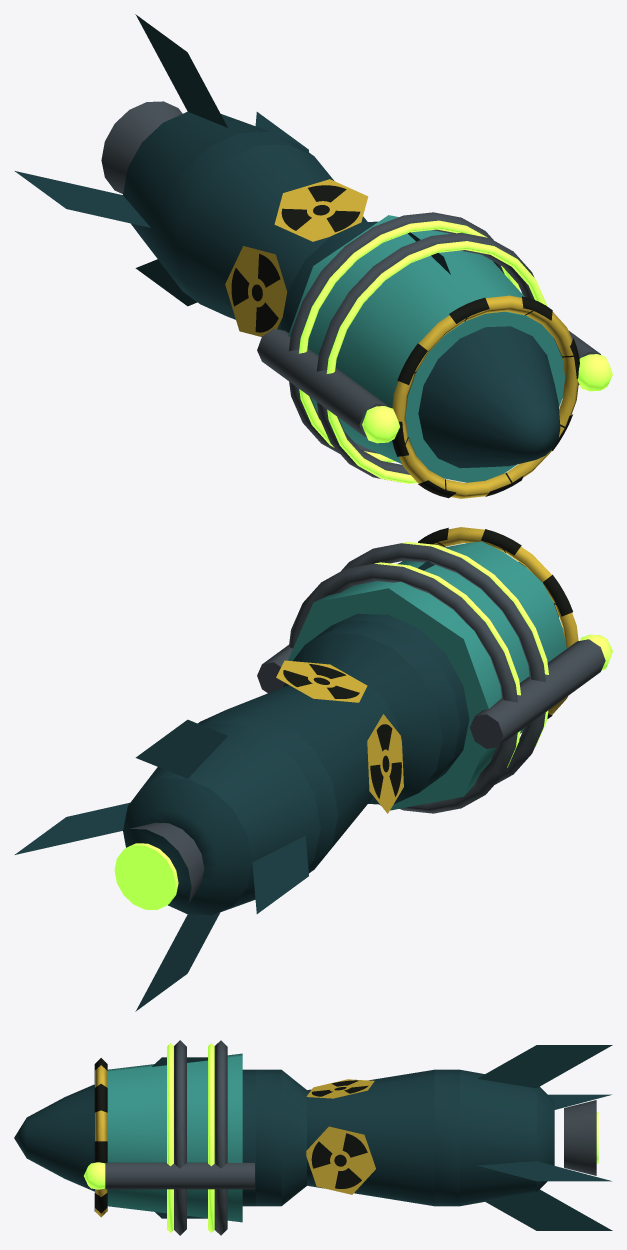
File: radiation-bomb-l2.glb
The picture shows the model from 3 angles, top to bottom: view 1: azimuth 30°, elevation 25°; view 2: azimuth 150°, elevation 25°; view 3: azimuth 270°, elevation 25°; orthographic projection. The views are drawn at different scales.
Parts seen in each view (by area): view 1: M1 titanium pressure casing, Batched pressure fittings (×4), Warhead armour; view 2: M1 titanium pressure casing, Batched pressure fittings (×4), Warhead armour, Isotope drive throat; view 3: M1 titanium pressure casing, Batched pressure fittings (×4), Warhead armour.
Boxes of the visible parts, box(x1,y1,x2,y2) form: M1 titanium pressure casing: box(15, 14, 560, 468); Batched pressure fittings (×4): box(101, 101, 612, 498); Warhead armour: box(288, 215, 564, 482); M1 titanium pressure casing: box(15, 560, 558, 1011); Batched pressure fittings (×4): box(129, 527, 612, 904); Warhead armour: box(288, 541, 566, 810); Isotope drive throat: box(114, 843, 178, 910); M1 titanium pressure casing: box(14, 1045, 612, 1230); Batched pressure fittings (×4): box(84, 1040, 596, 1235); Warhead armour: box(107, 1053, 242, 1222).
Size of the model in its own units: 0.768 by 0.7532 by 2.2.
